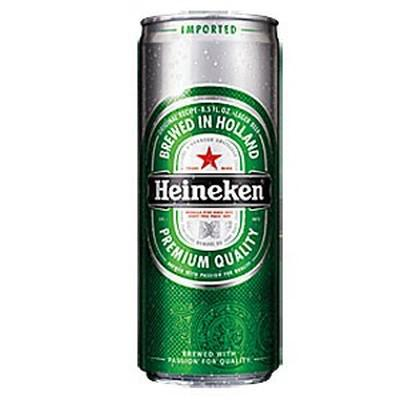beer: (136, 10, 285, 386)
